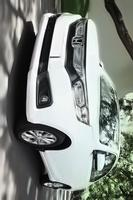Car hood: (84, 18, 103, 129)
Fender - -F-L-: (41, 127, 104, 152)
Front bumper: (24, 10, 74, 131)
Headlight - -L-: (69, 76, 93, 127)
Passenger-s door - -F-L-: (44, 152, 119, 170)
Passenger-s door - -R-L-: (48, 171, 115, 185)
Side bumper - -L-: (37, 146, 57, 185)
Side mirror - -L-: (91, 150, 108, 174)
Side mirror - -R-: (97, 60, 107, 68)
